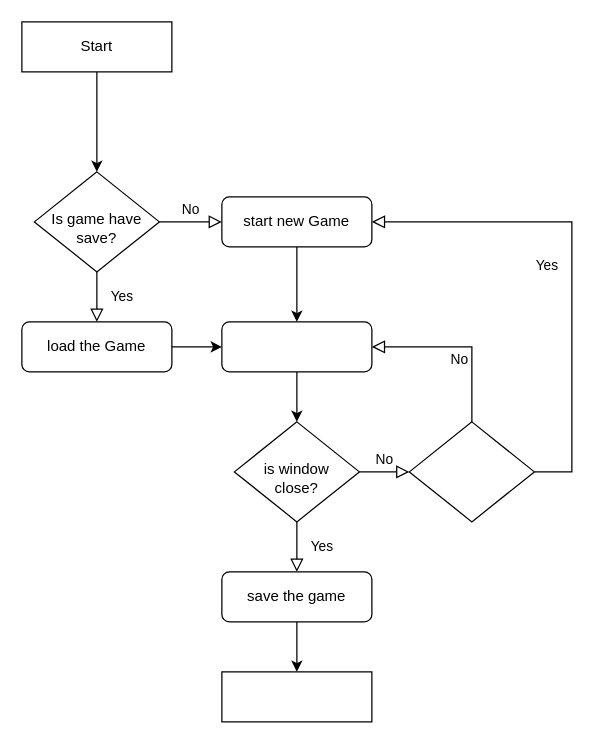
Some shapes in this 606 by 744 pixel diagram are drawn without their labels. Each missing label, with the box of its shape:
Finish: (221, 671, 372, 722)
is restart pressed?: (408, 421, 534, 522)
play game: (221, 321, 372, 372)
